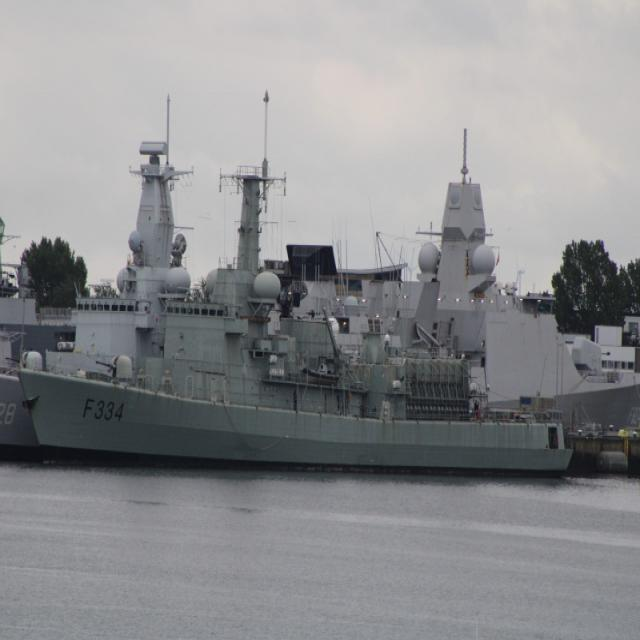Fragata: (14, 131, 580, 478)
